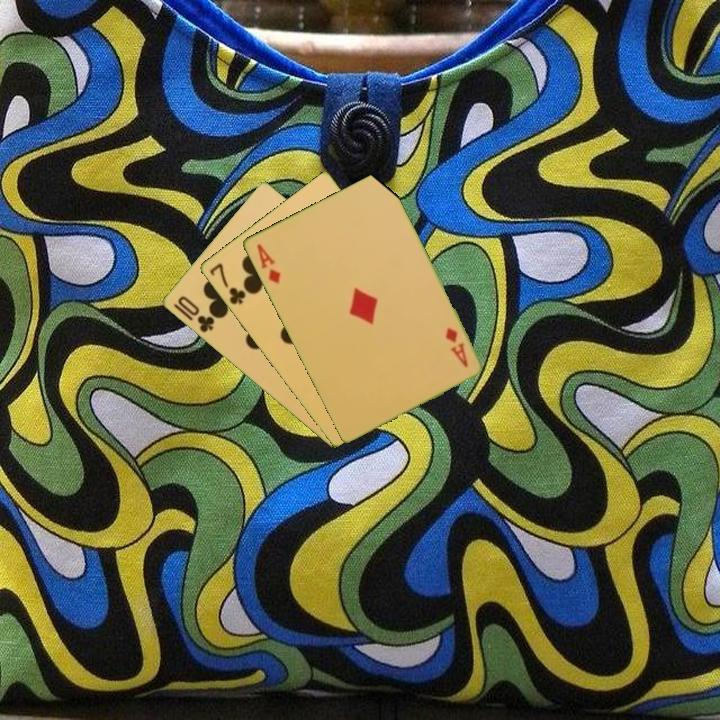10c: (173, 292, 217, 336)
7c: (205, 259, 248, 308)
Ad: (253, 240, 283, 287), (441, 324, 471, 371)
